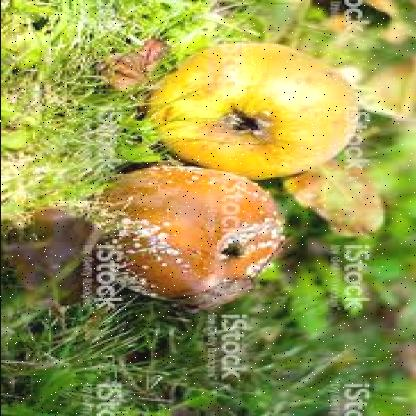damaged_apple: (139, 42, 357, 178), (96, 164, 276, 302)
